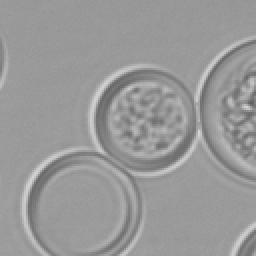picoshell: (20, 146, 144, 254), (88, 64, 196, 176), (194, 36, 254, 184), (230, 222, 254, 254), (0, 34, 6, 88)
